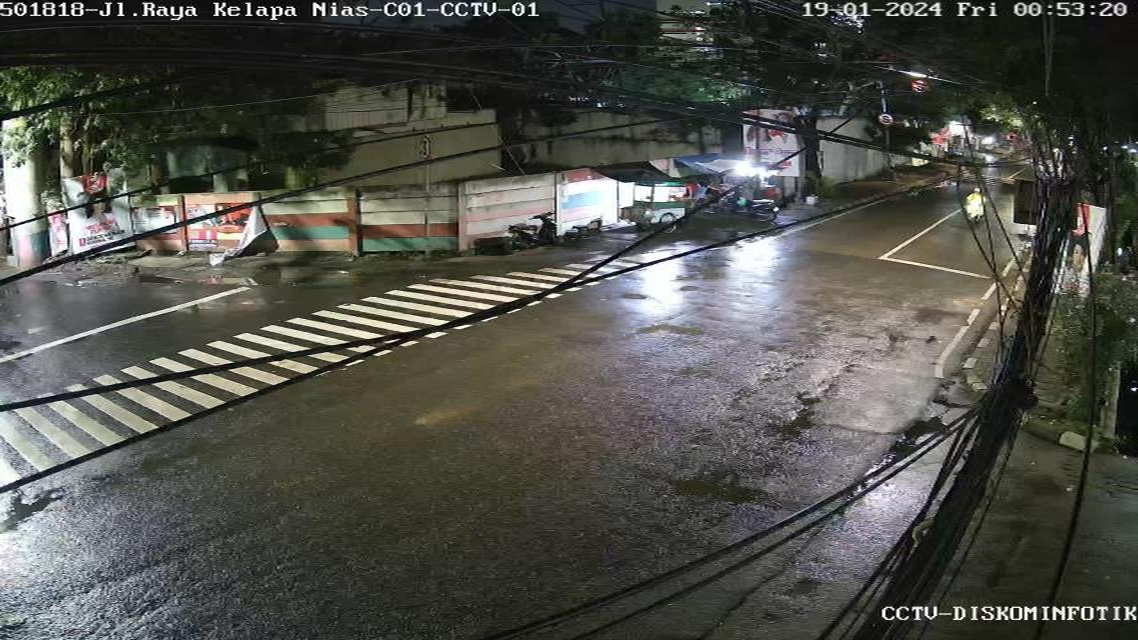Gerobak: (622, 179, 686, 229)
